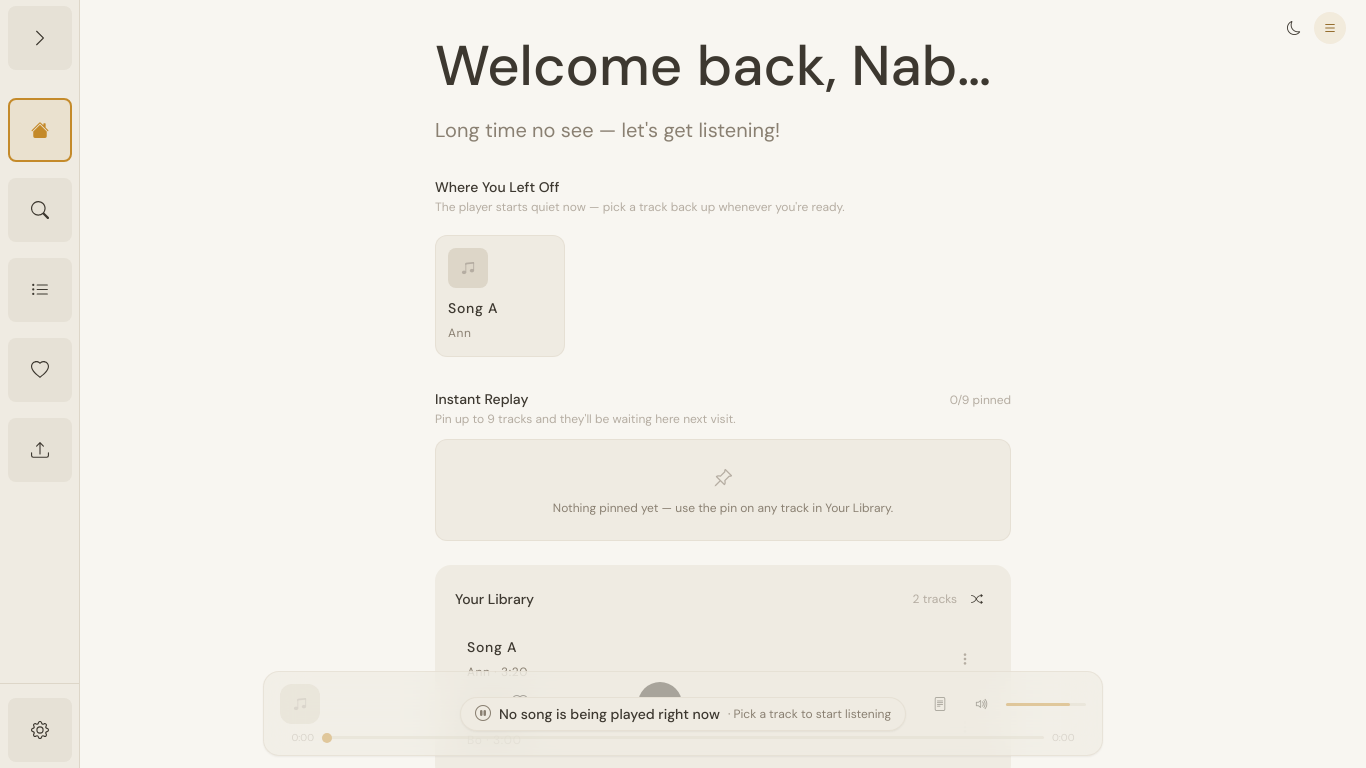
Scenario: App — coming back to a quiet player › fades the controls back while idle and lifts them for a track
Check: the text "No song is being played right now" is shown, box [499,704,720,722]
Check: the element named "Shuffle" next to "No song is being played right now" is shown, box [280,682,1086,726]
Click the button "Song A Ann".
click(500, 296)  # box [435,235,565,357]
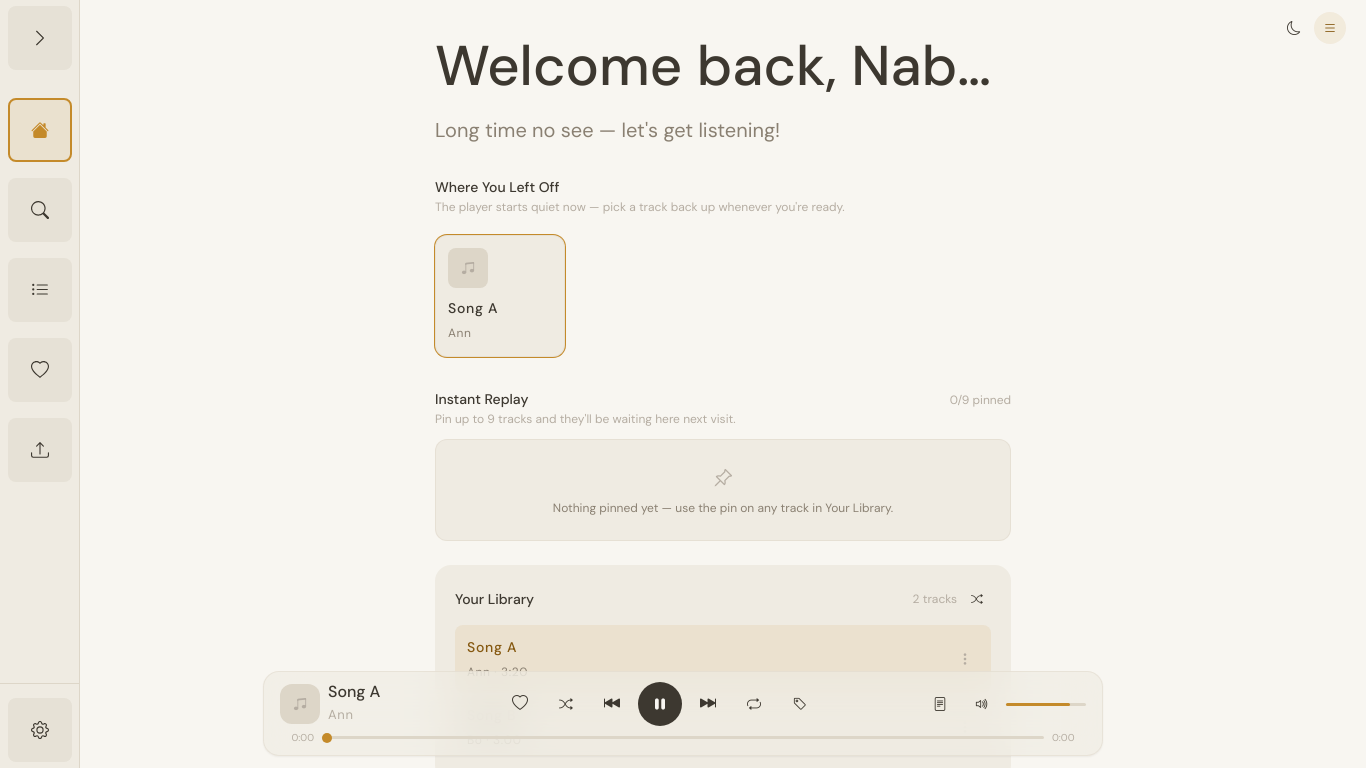
Check: the text "No song is being played right now" is gone
